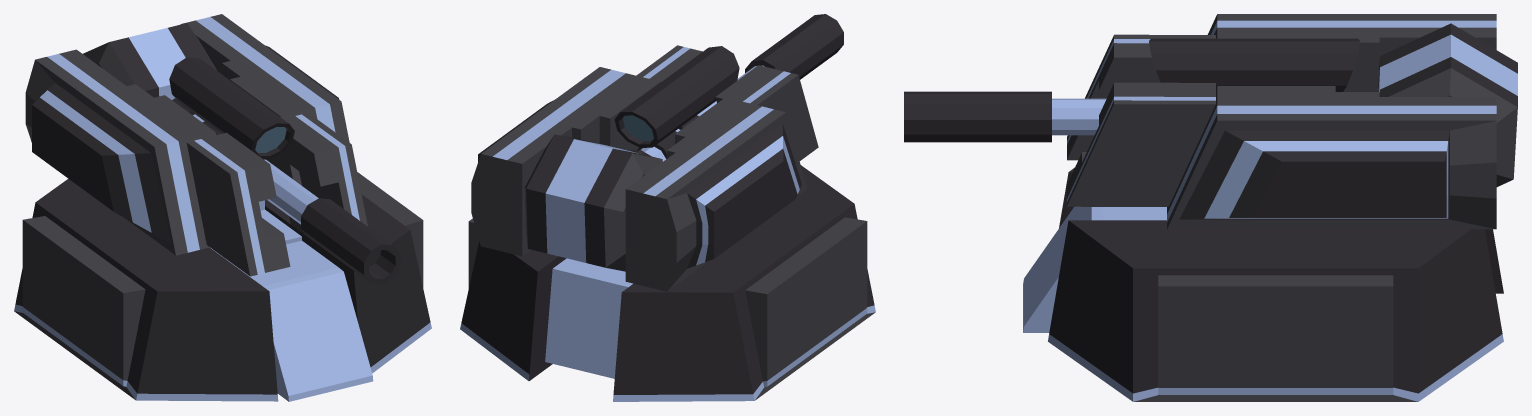
The model's file is upg_sniper3.fbx.
3 renders of one model, left to right at view 1: azimuth 30°, elevation 25°; view 2: azimuth 150°, elevation 25°; view 3: azimuth 270°, elevation 25°, orthographic. The views are drawn at different scales.
Visible parts, largest first — view 1: Cube.008, Cube.005; view 2: Cube.008, Cube.005; view 3: Cube.008, Cube.005.
Boxes of the visible parts, x1,y1,x2,y2 form: Cube.008: (25,14,400,284); Cube.005: (14,172,431,401); Cube.008: (471,14,843,291); Cube.005: (460,165,875,401); Cube.008: (904,14,1517,229); Cube.005: (1023,167,1503,401).
Bounding box in the file's own units: 88.19 × 66.36 × 134.
